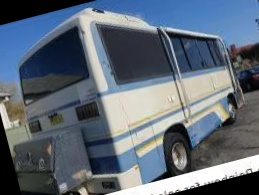bus: (1, 0, 259, 195)
